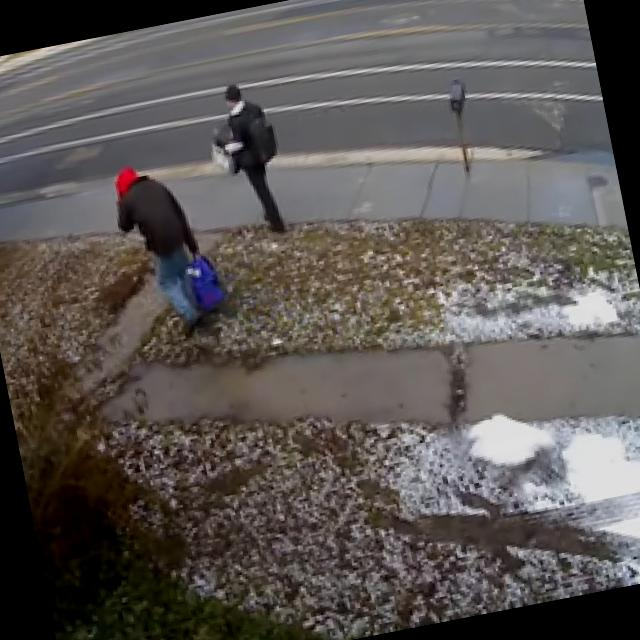person: (105, 154, 212, 340), (210, 80, 296, 242)
